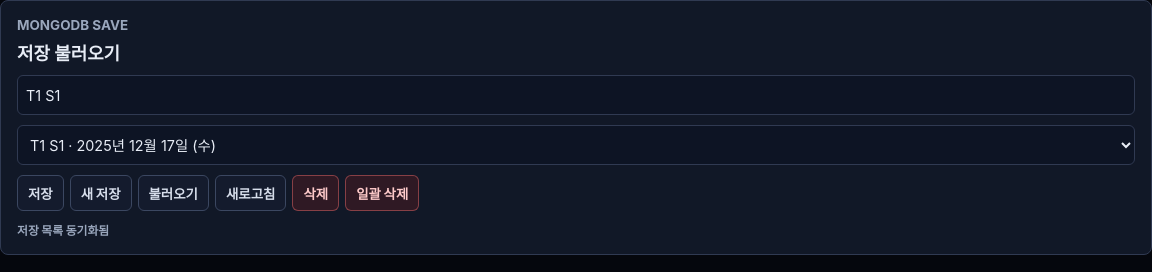
SaveManager › shows a revision conflict when the save API rejects a stale update
Expected: the text "저장 목록 동기화됨" is shown, [17,224,109,238]
Click the button "저장" at (40, 193), box [17,175,64,211]
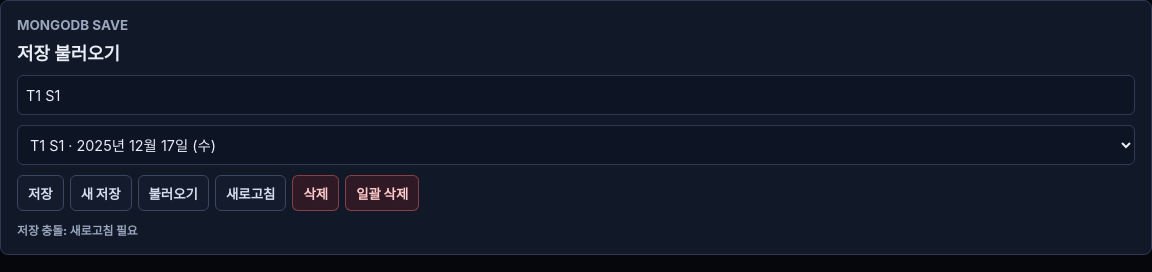
Now the text "저장 충돌: 새로고침 필요" is shown, box [17,224,138,238]
